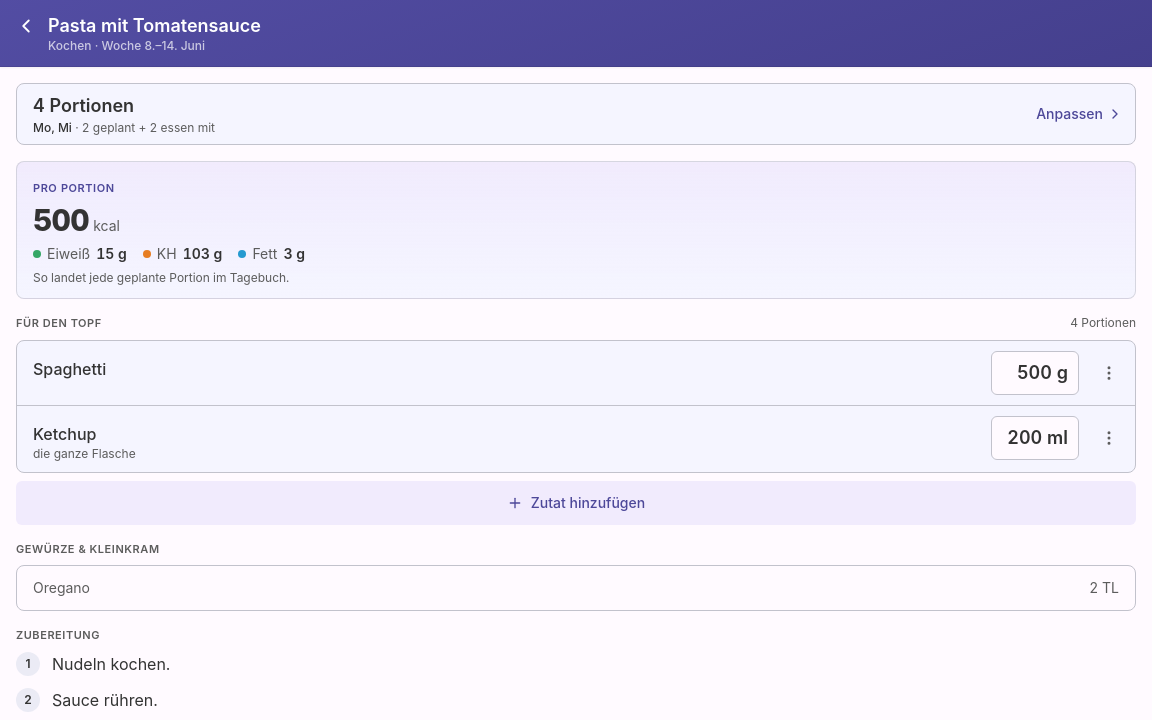
Test: CookingScreen › writes a new pot amount by portion to the selected meals, and undoes it
Step 1. Click the button with aria-label "Menge von Ketchup ändern" → [1035, 438], box [991, 416, 1079, 460]
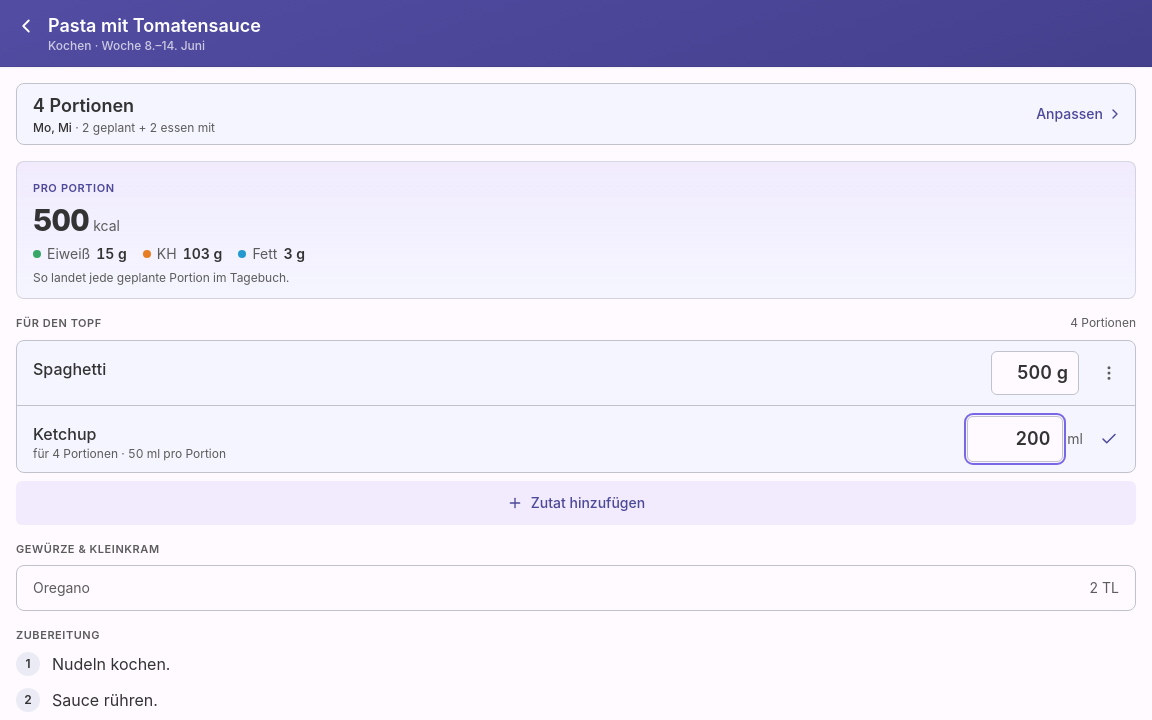
Step 2. Replace the text in the field named "Menge von Ketchup für den Topf" with "400" → [1015, 438], box [967, 416, 1063, 462]
Then press Enter
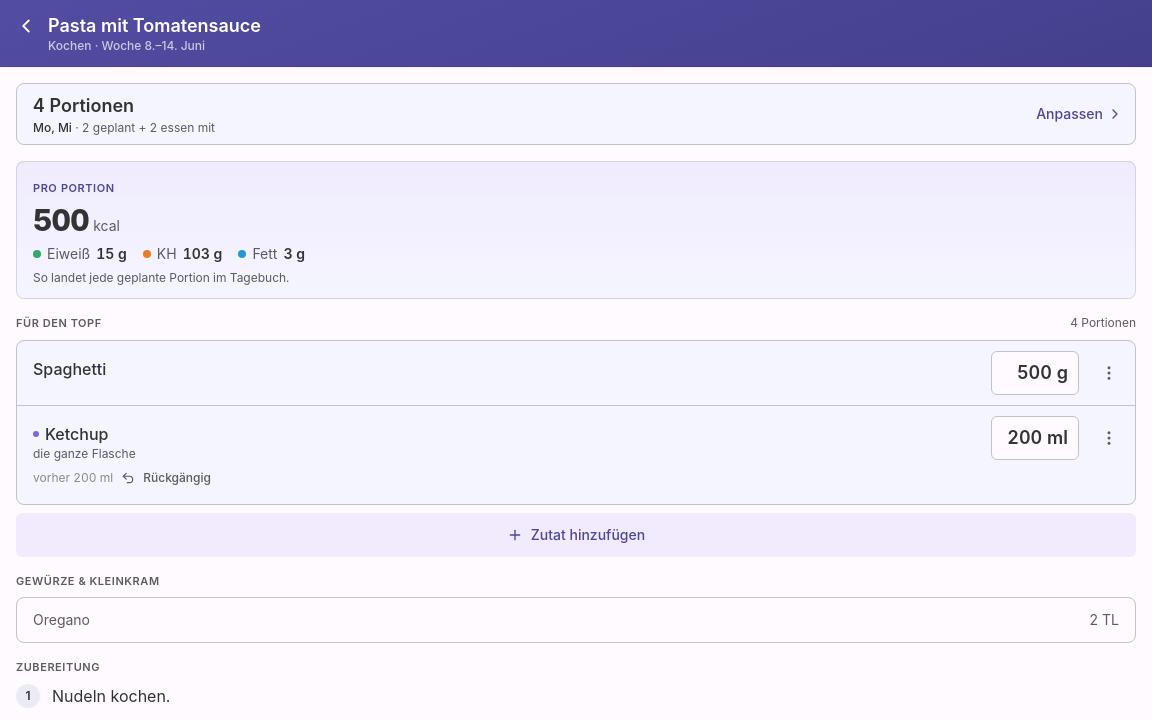
Expected: the text "vorher 200 ml" is shown, [33, 470, 113, 486]
Step 3. Click the button with aria-label "Ketchup zurücksetzen" → [166, 478], box [113, 462, 219, 494]
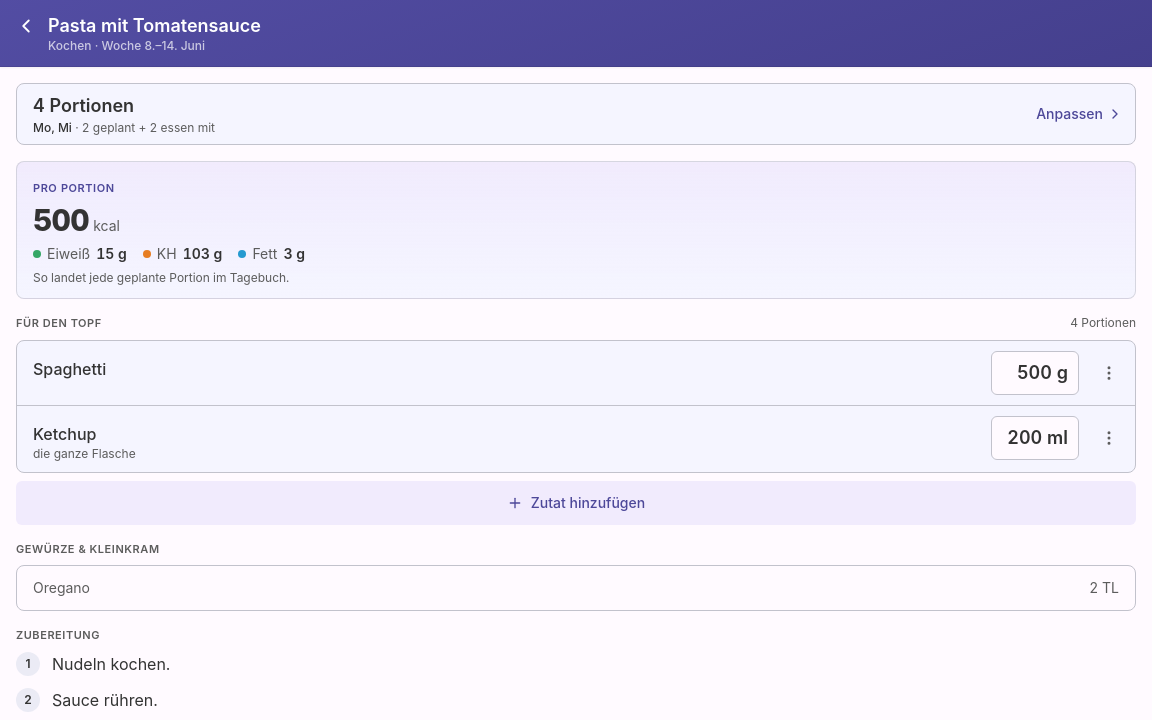
Expected: the text "vorher 200 ml" is gone
